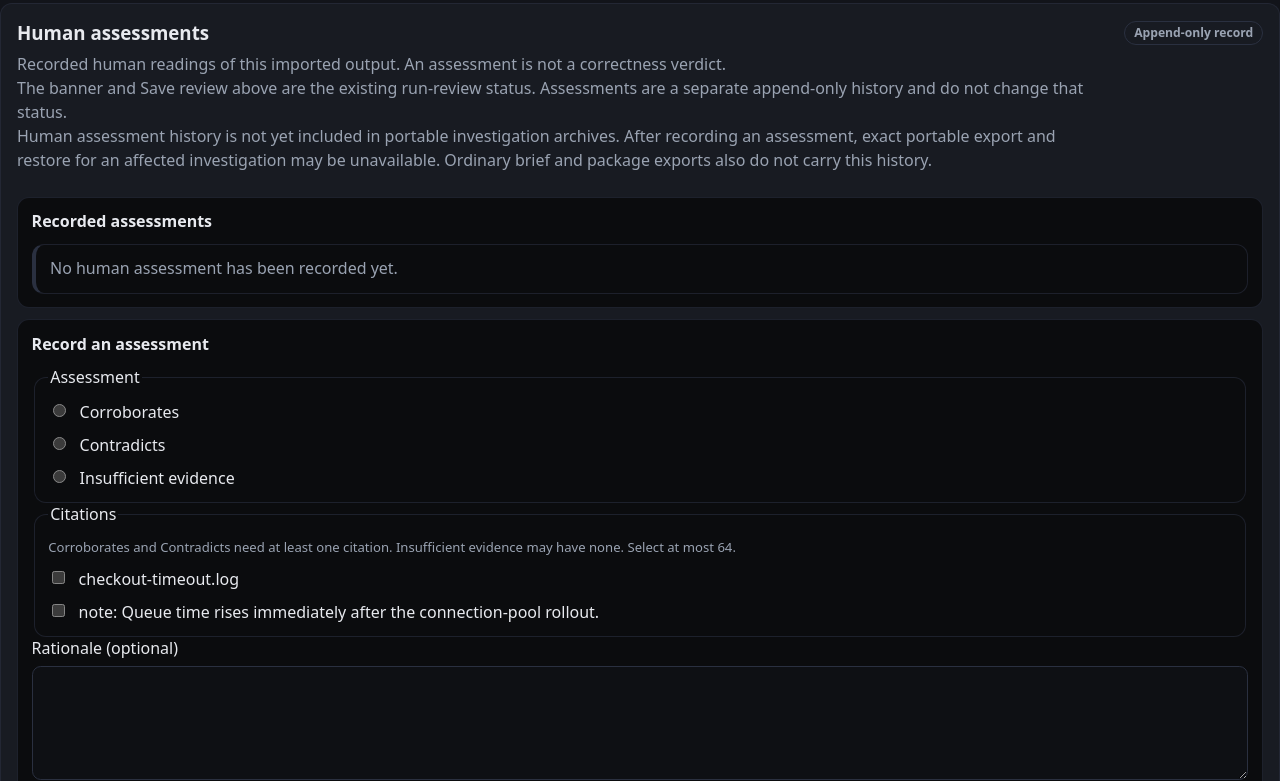
Test case: shared human assessments panel › requires local portability disclosure acknowledgment before a first write
Click the radio button labelled "Insufficient evidence": (60, 477) [53,470,66,484]
(page scrolled)
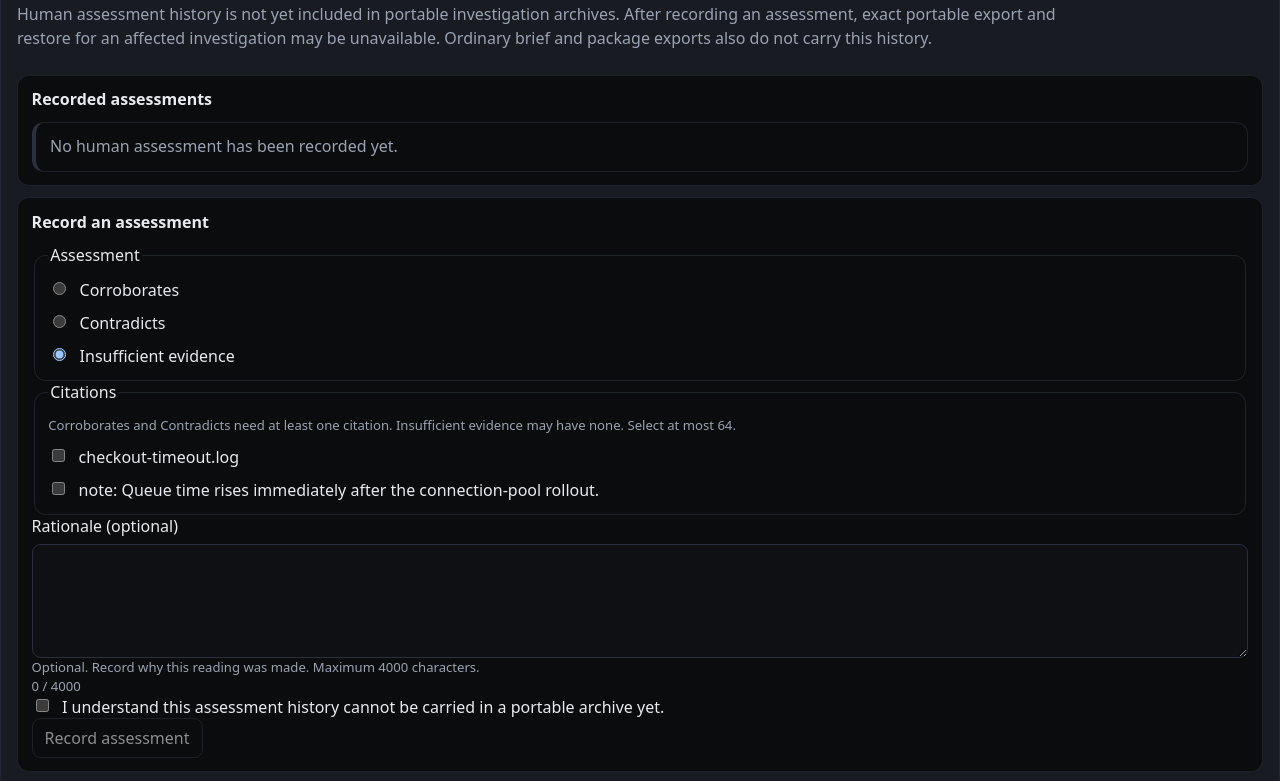
Expected: the button "Record assessment" is disabled, [32,718,202,758]
Submit the form named "Record an assessment"
Click the checkbox labelled "I understand this assessment history cannot be carried": (42, 706) [36,699,49,712]
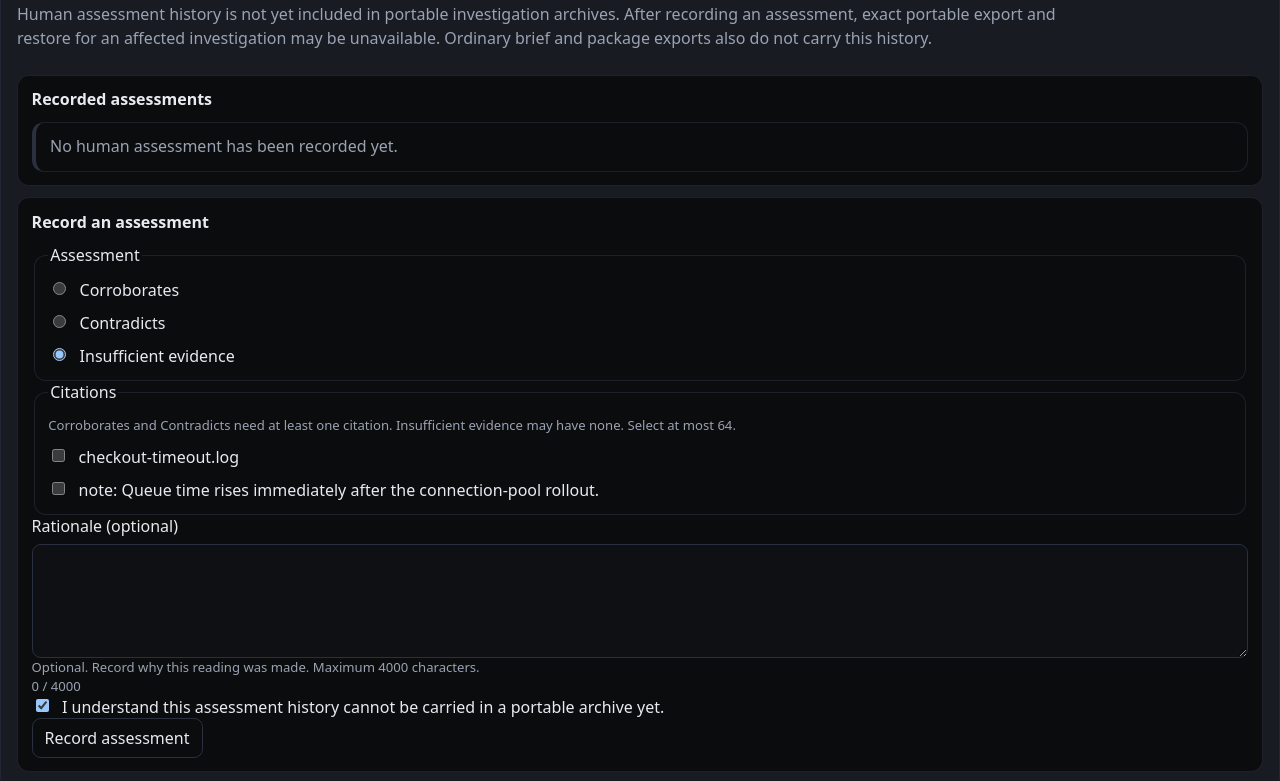
Expected: the button "Record assessment" is enabled, [32,718,202,758]
